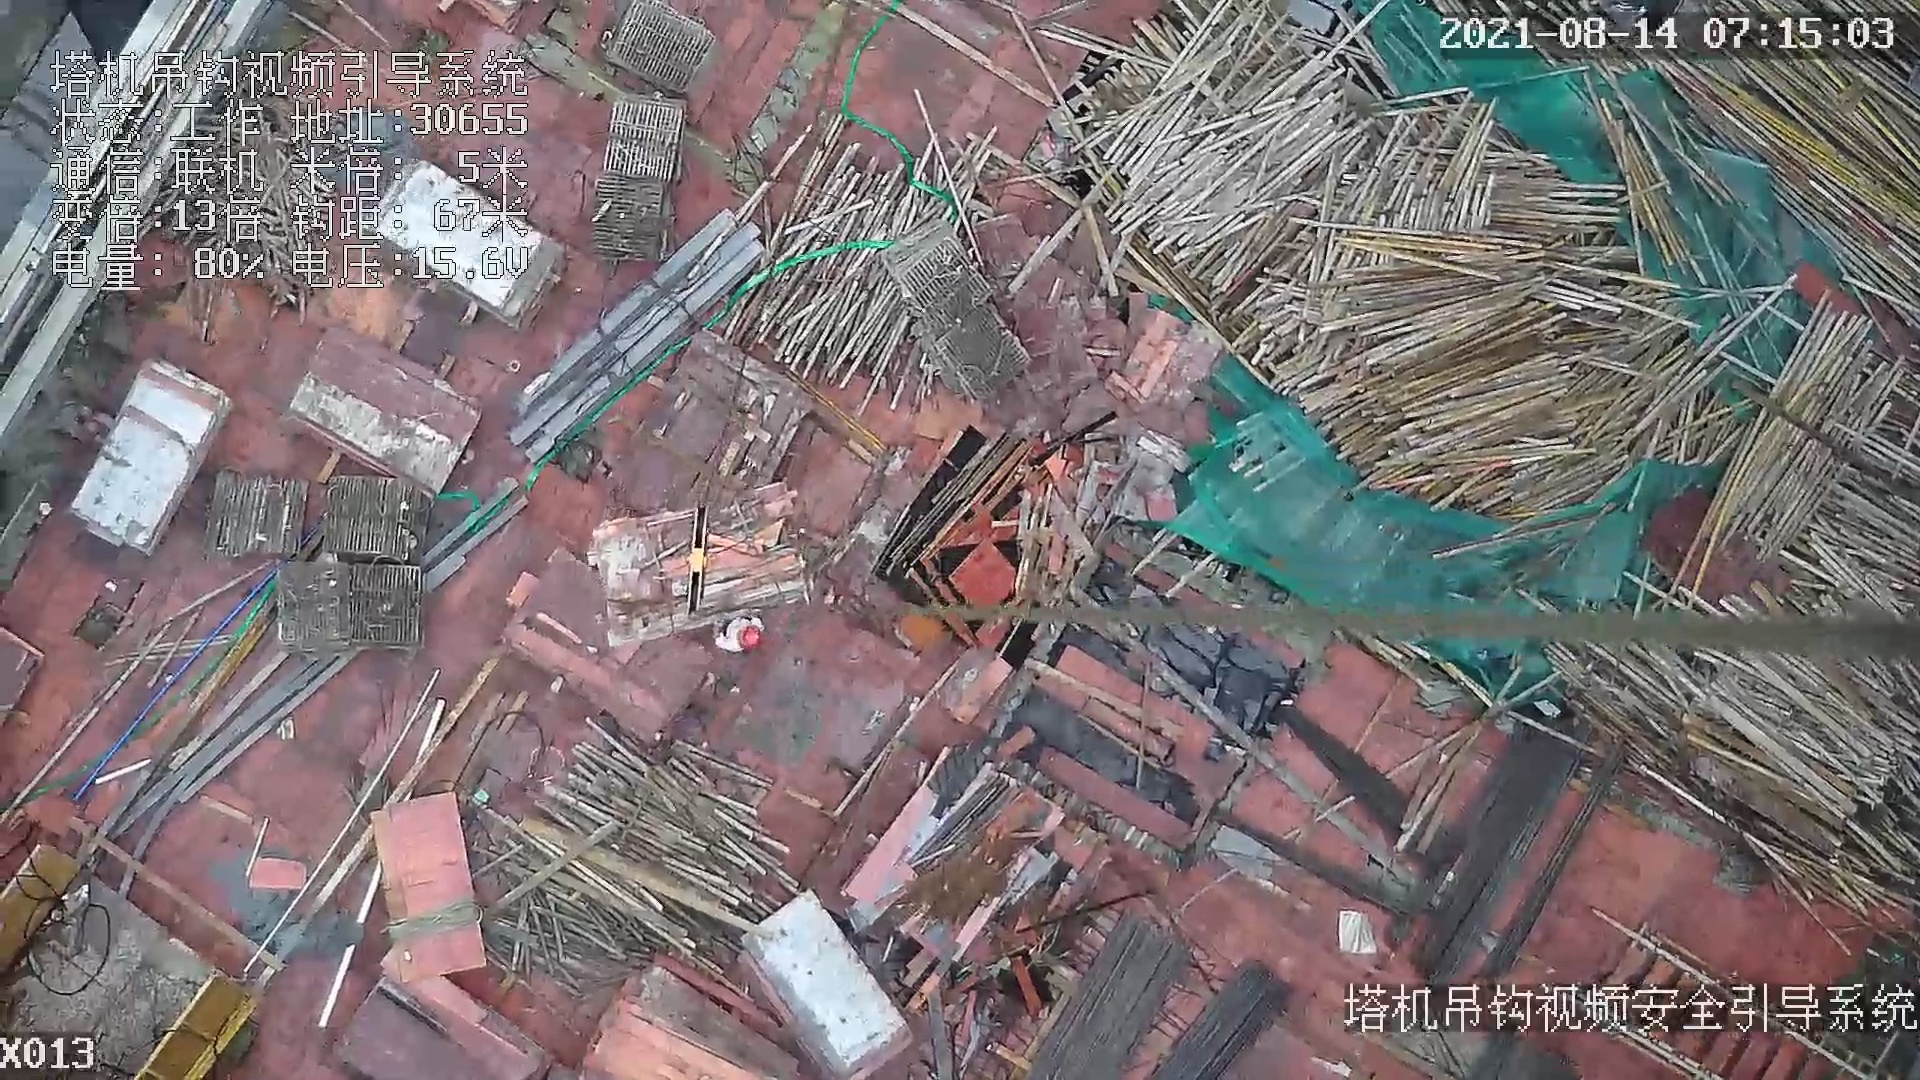helmet: (737, 626, 764, 648)
hook: (674, 495, 717, 618)
person: (714, 609, 774, 654)
